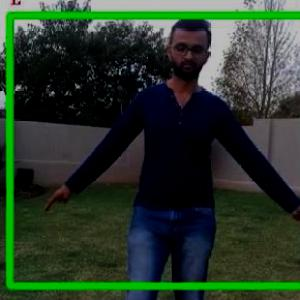land: (39, 24, 299, 298)
